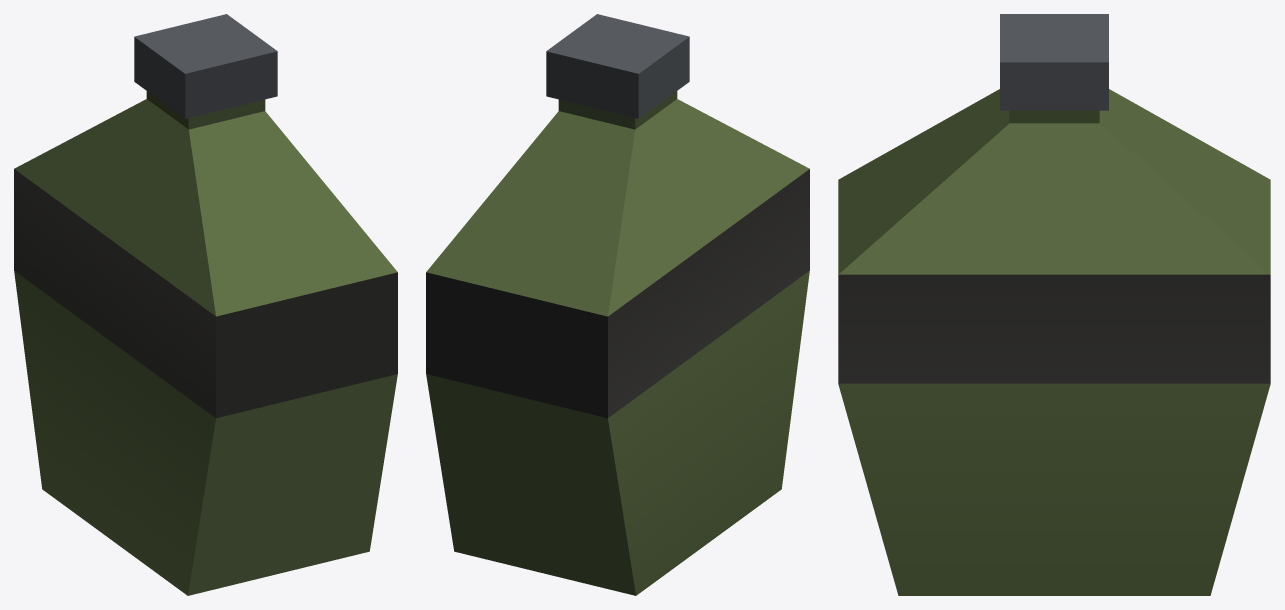
The model's file is AI_Item_Canteen.fbx.
3 views of the same model, side by side, from view 1: azimuth 30°, elevation 25°; view 2: azimuth 150°, elevation 25°; view 3: azimuth 270°, elevation 25° (orthographic). The views are drawn at different scales.
Visible parts, largest first — view 1: AI_Item_Canteen; view 2: AI_Item_Canteen; view 3: AI_Item_Canteen.
Boxes of the visible parts, x1,y1,x2,y2 form: AI_Item_Canteen: (14, 14, 397, 595); AI_Item_Canteen: (426, 14, 809, 595); AI_Item_Canteen: (838, 14, 1270, 595).
Bounding box in the file's own units: 0.2422 × 0.6064 × 0.4658.
